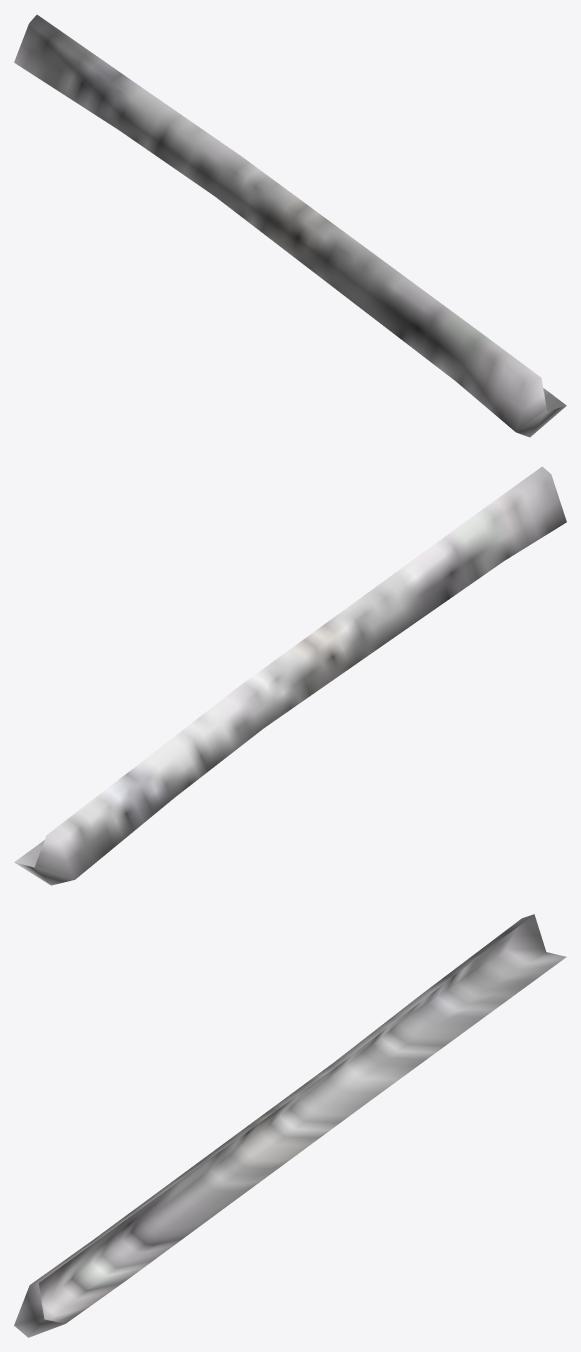
The picture shows the model from 3 angles, top to bottom: view 1: azimuth 30°, elevation 25°; view 2: azimuth 150°, elevation 25°; view 3: azimuth 330°, elevation 25°; orthographic projection.
Parts seen in each view (by area): view 1: wg_l_c_j; view 2: wg_l_c_j; view 3: wg_l_c_j.
Part boxes in pixels (<box>): wg_l_c_j: <box>14,14,566,437</box>; wg_l_c_j: <box>14,466,566,885</box>; wg_l_c_j: <box>14,914,566,1337</box>.
Bounding box in the file's own units: 0.1468 × 0.137 × 2.14.
1 material, 1 textured.
